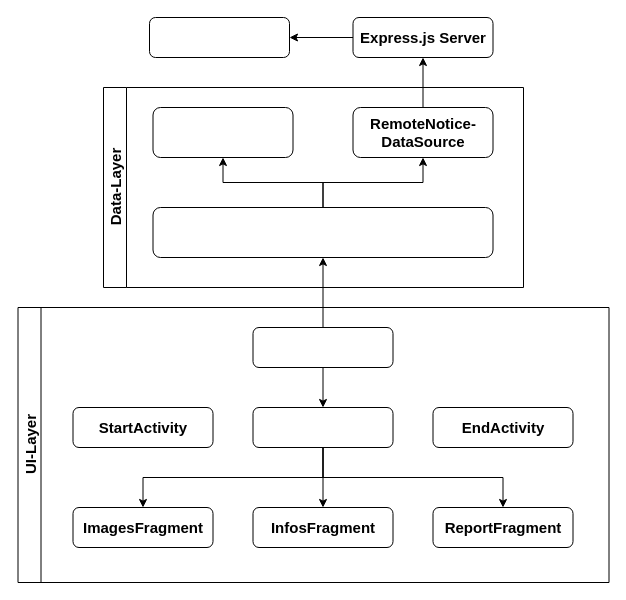
Some shapes in this 626 by 600 pixel diagram are drawn without their labels. Here are the shapes that lost their labels. From the top down, the centre of each, then its label:
At point (219, 37): "Interpol API".
At point (222, 132): "LocalNotice-DataSource".
At point (322, 232): "NoticeRepository".
At point (322, 347): "NoticeViewModel".
At point (322, 427): "NoticeActivity".
